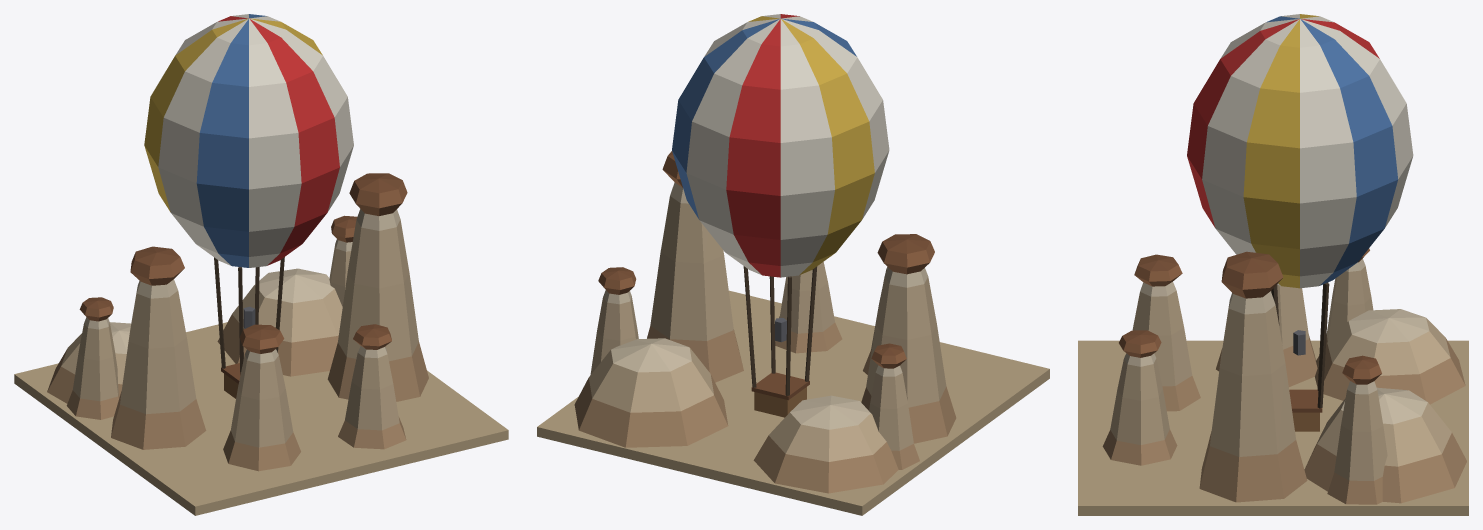
File: montgolfiere.glb
3 renders of one model, left to right at view 1: azimuth 30°, elevation 25°; view 2: azimuth 150°, elevation 25°; view 3: azimuth 270°, elevation 25°, orthographic. The views are drawn at different scales.
Parts seen in each view (by area): view 1: montgolfiere; view 2: montgolfiere; view 3: montgolfiere.
Boxes of the visible parts, x1,y1,x2,y2 form: montgolfiere: (14, 14, 508, 515); montgolfiere: (537, 14, 1049, 515); montgolfiere: (1078, 14, 1468, 515).
Size of the model in its own units: 1.76 by 2.06 by 1.76.
